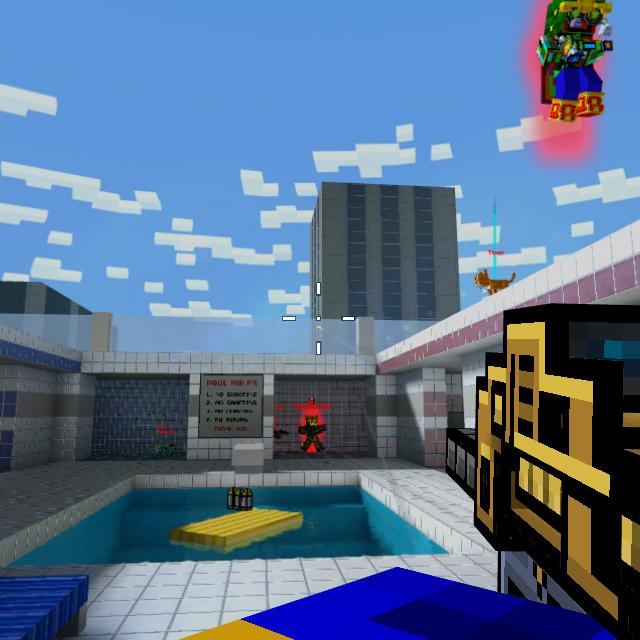Enemy: (536, 0, 606, 123), (298, 417, 327, 452)
